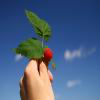Raspberry leaf: (24, 10, 52, 42), (10, 37, 45, 59)
